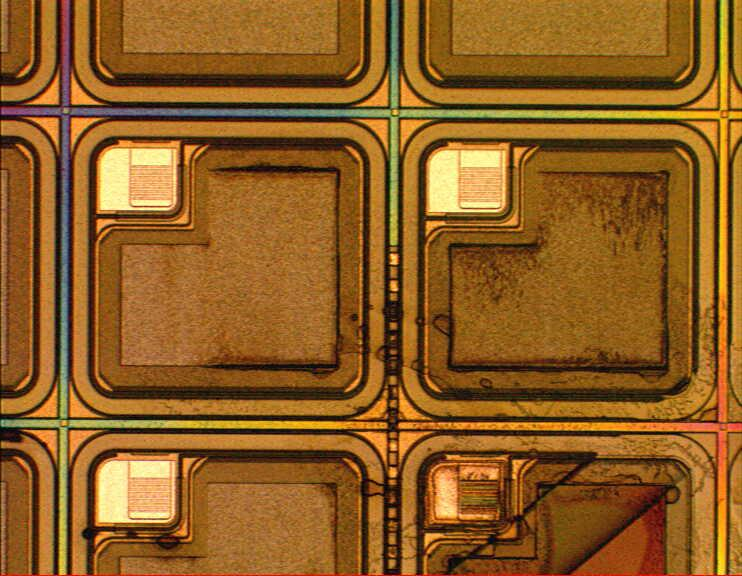SEZ BURNT: (142, 165, 675, 379)
